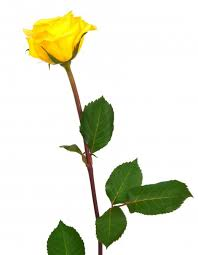lale: (13, 0, 198, 255)
